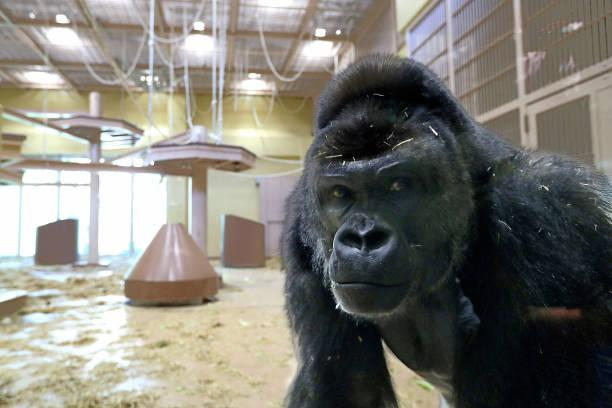gorille_Autres: (263, 46, 612, 405), (266, 48, 266, 49)
